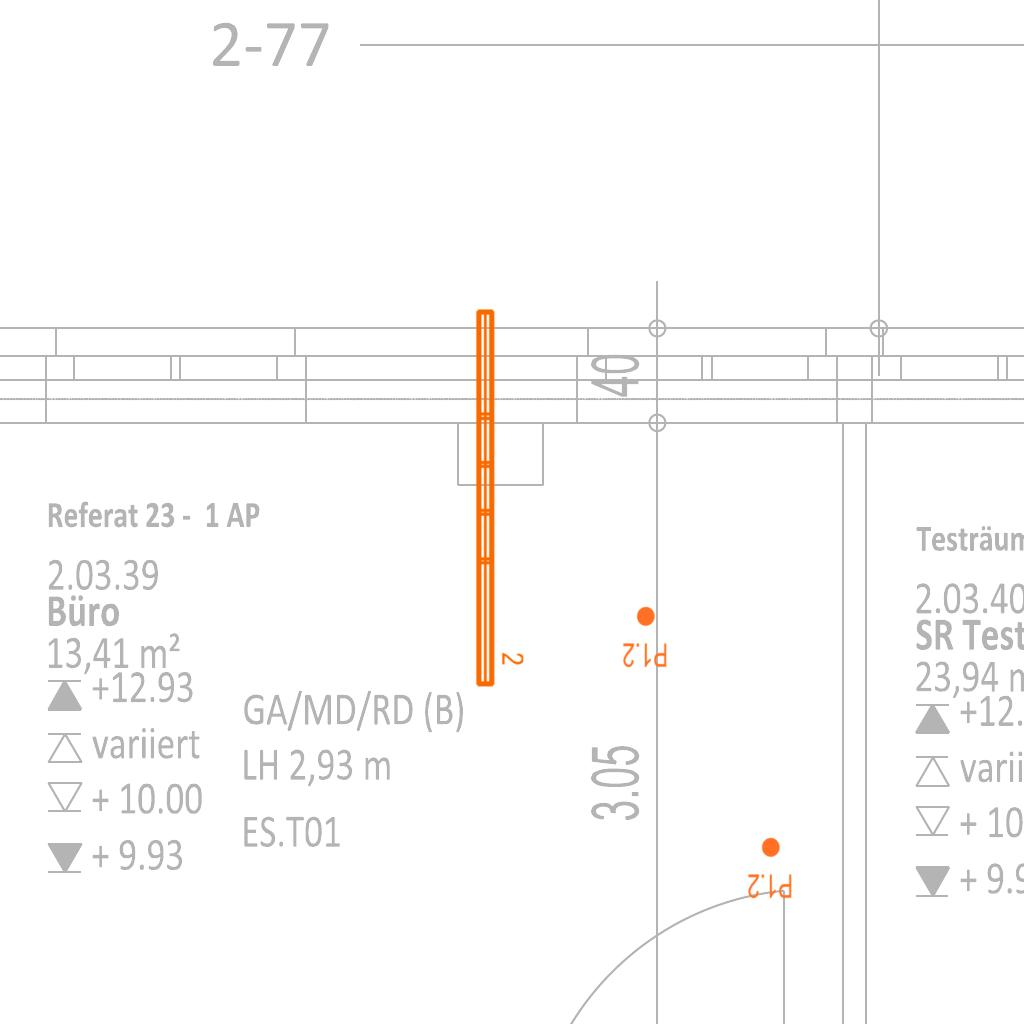Ambulanz_Pendelleuchte_LED: (470, 304, 526, 691)
Downlight_LED_Einbauleuchten_Flur: (622, 605, 668, 669), (747, 836, 793, 900)
